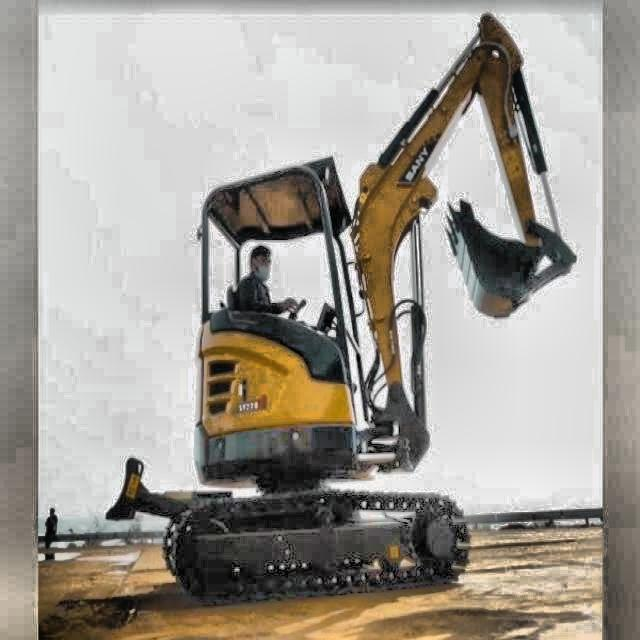excavator: (103, 19, 584, 596)
